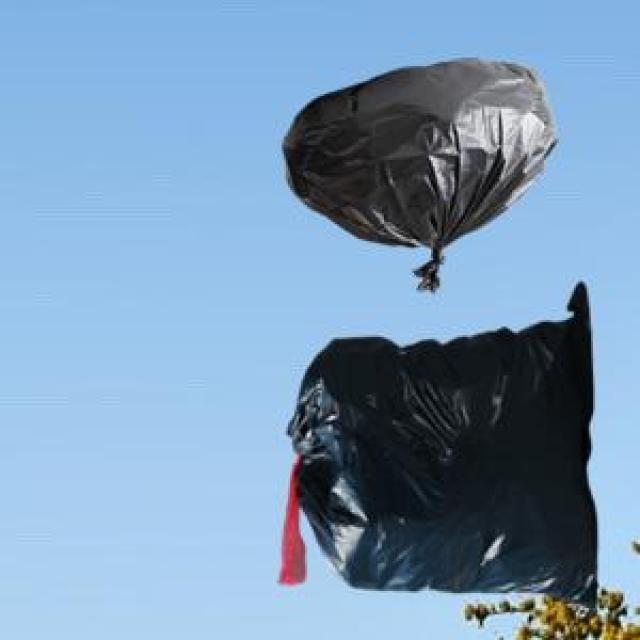Vinyl: (282, 285, 598, 604), (285, 59, 555, 289)
